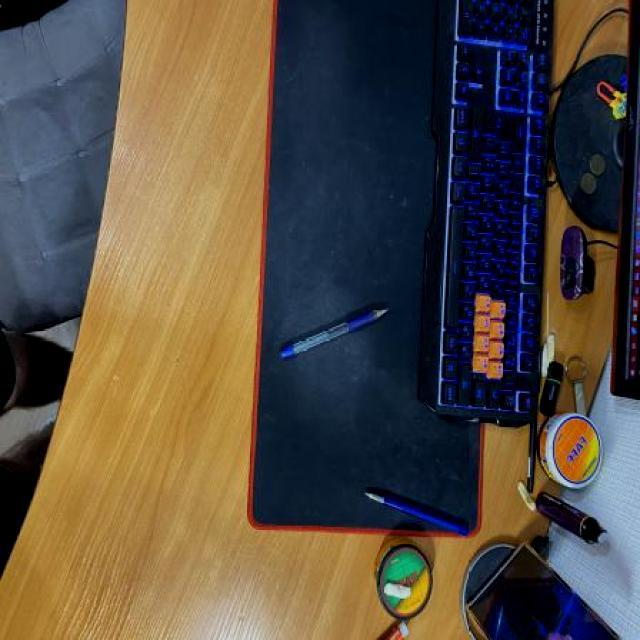pen: (279, 304, 389, 362)
